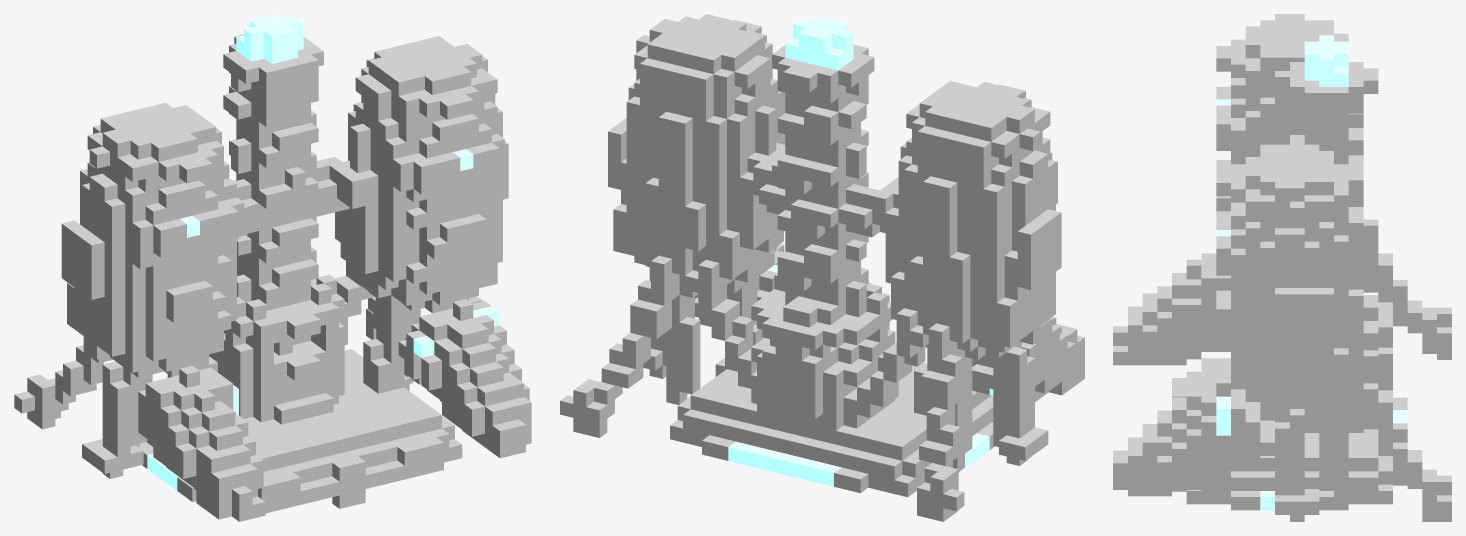
The model's file is IceDrill_B_T3.fbx.
3 renders of one model, left to right at view 1: azimuth 30°, elevation 25°; view 2: azimuth 150°, elevation 25°; view 3: azimuth 270°, elevation 25°, orthographic. The views are drawn at different scales.
Visible parts, largest first — view 1: IceDrillT3SnowWhite, IceDrillT3SteelLight, IceDrillT3IceBlue, IceDrillT3GlacierBlue, IceDrillT3NavyIce, IceDrillT3SteelDark, IceDrillT3DeepIce, IceDrillT3AuroraCyanGlow; view 2: IceDrillT3SnowWhite, IceDrillT3GlacierBlue, IceDrillT3SteelLight, IceDrillT3IceBlue, IceDrillT3SteelDark, IceDrillT3AuroraCyanGlow, IceDrillT3NavyIce, IceDrillT3DeepIce; view 3: IceDrillT3SnowWhite, IceDrillT3SteelLight, IceDrillT3GlacierBlue, IceDrillT3SteelDark, IceDrillT3IceBlue, IceDrillT3DeepIce, IceDrillT3NavyIce, IceDrillT3AuroraCyanGlow.
Boxes of the visible parts, box(x1,y1,x2,y2) form: IceDrillT3SnowWhite: box(80, 93, 531, 521); IceDrillT3SteelLight: box(87, 36, 497, 457); IceDrillT3IceBlue: box(209, 85, 433, 471); IceDrillT3GlacierBlue: box(14, 58, 508, 478); IceDrillT3NavyIce: box(132, 142, 504, 372); IceDrillT3SteelDark: box(35, 34, 376, 415); IceDrillT3DeepIce: box(145, 315, 514, 508); IceDrillT3AuroraCyanGlow: box(147, 14, 499, 490); IceDrillT3SnowWhite: box(626, 69, 1084, 497); IceDrillT3GlacierBlue: box(560, 20, 1061, 521); IceDrillT3SteelLight: box(634, 14, 1052, 444); IceDrillT3IceBlue: box(698, 76, 986, 457); IceDrillT3SteelDark: box(581, 44, 962, 490); IceDrillT3AuroraCyanGlow: box(728, 16, 993, 486); IceDrillT3NavyIce: box(698, 152, 1057, 417); IceDrillT3DeepIce: box(773, 244, 1069, 400); IceDrillT3SnowWhite: box(1113, 78, 1407, 510); IceDrillT3SteelLight: box(1216, 14, 1363, 495); IceDrillT3GlacierBlue: box(1201, 46, 1451, 521); IceDrillT3SteelDark: box(1290, 62, 1436, 508); IceDrillT3IceBlue: box(1201, 106, 1392, 471); IceDrillT3DeepIce: box(1142, 253, 1230, 448); IceDrillT3NavyIce: box(1216, 87, 1363, 425); IceDrillT3AuroraCyanGlow: box(1216, 35, 1407, 510).
Size of the model in its own units: 400 by 387 by 288.
